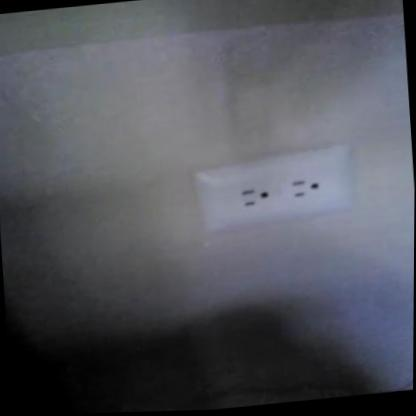OUTLET: (191, 144, 357, 236)
